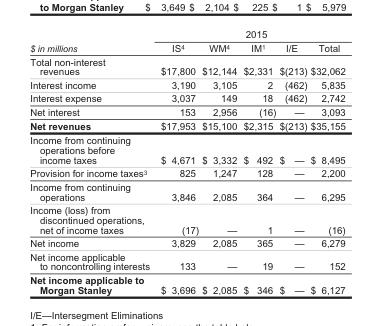table: (29, 28, 344, 294)
table column: (29, 28, 154, 294), (154, 28, 199, 294), (199, 28, 239, 294), (239, 28, 277, 294), (308, 28, 344, 294), (277, 28, 308, 294)
table column header: (29, 28, 344, 54)
table row: (29, 132, 344, 166), (29, 202, 344, 235), (29, 54, 344, 77), (29, 179, 344, 202), (29, 249, 344, 272), (29, 272, 344, 294), (29, 40, 344, 54), (29, 77, 344, 91), (29, 104, 344, 118), (29, 118, 344, 132), (29, 235, 344, 249), (29, 91, 344, 104), (29, 166, 344, 179), (29, 28, 344, 40)
table spanning cell: (29, 28, 154, 54), (154, 28, 344, 40)
